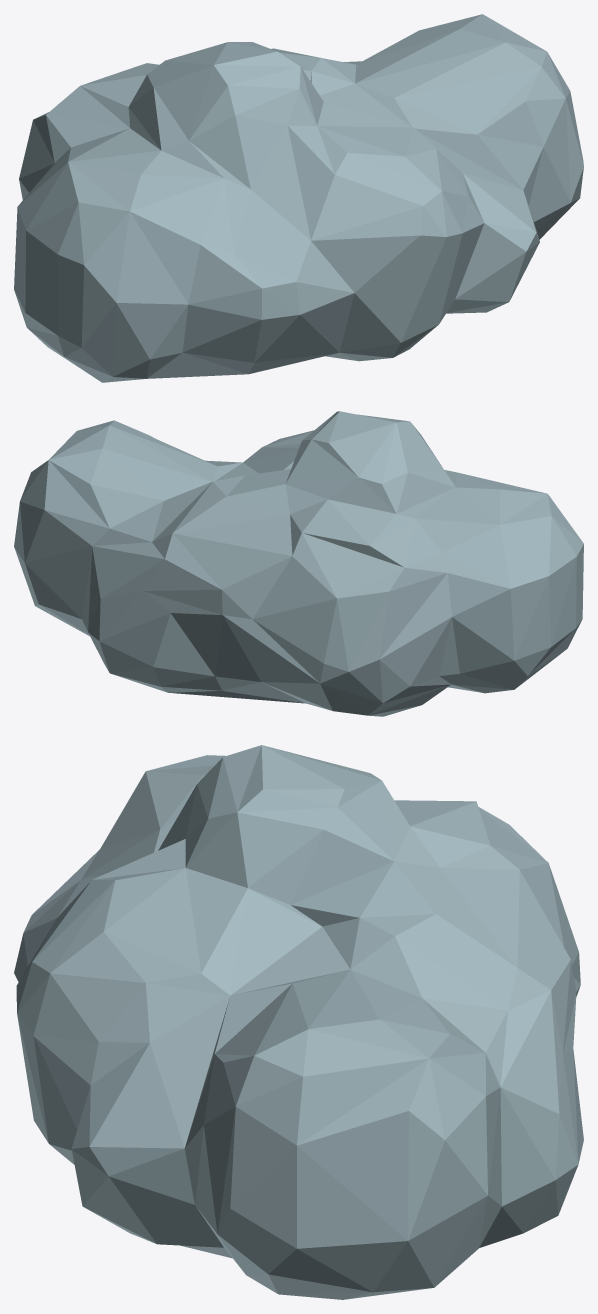
The model's file is cloudBig.fbx.
3 renders of one model, top to bottom at view 1: azimuth 30°, elevation 25°; view 2: azimuth 150°, elevation 25°; view 3: azimuth 270°, elevation 25°, orthographic. The views are drawn at different scales.
Parts seen in each view (by area): view 1: cloud1; view 2: cloud1; view 3: cloud1.
Boxes of the visible parts, x1,y1,x2,y2 form: cloud1: [14, 14, 583, 382]; cloud1: [14, 411, 583, 716]; cloud1: [14, 745, 583, 1299].
Bounding box in the file's own units: 2.87 × 1.4 × 1.92.
